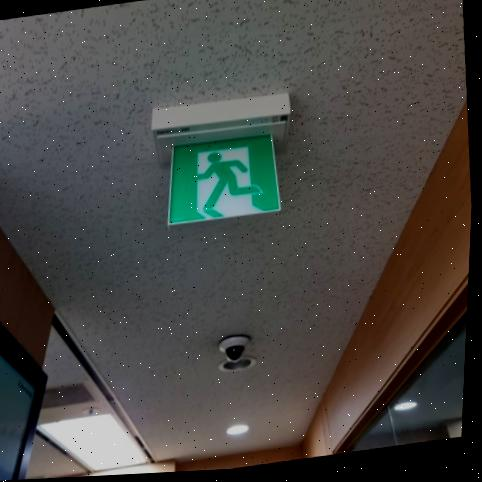emergency_exit: (167, 130, 282, 226)
